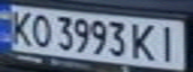3: (106, 18, 130, 58), (51, 14, 75, 52)
9: (69, 16, 93, 54), (87, 17, 109, 56)
I: (151, 22, 184, 64)
K: (127, 20, 160, 62), (3, 7, 36, 46)
O: (27, 11, 54, 48)
